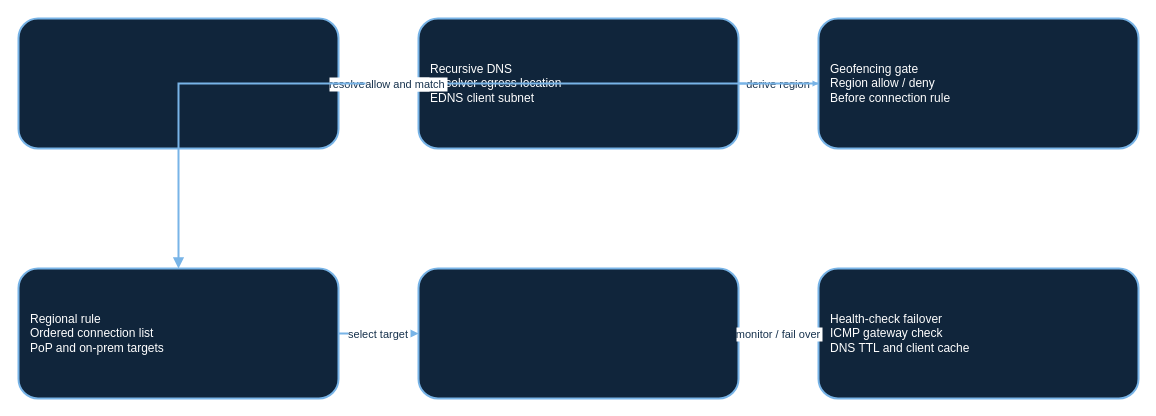
Image size: 1156x416. Some labels were removed from this diagram. Each missing label, with the centre of its shape:
"Remote endpoint FortiClient / browser Public IP may differ" belongs at point (178, 83).
"Tunnel selection Priority / fallback Permitted candidates only" belongs at point (578, 333).
